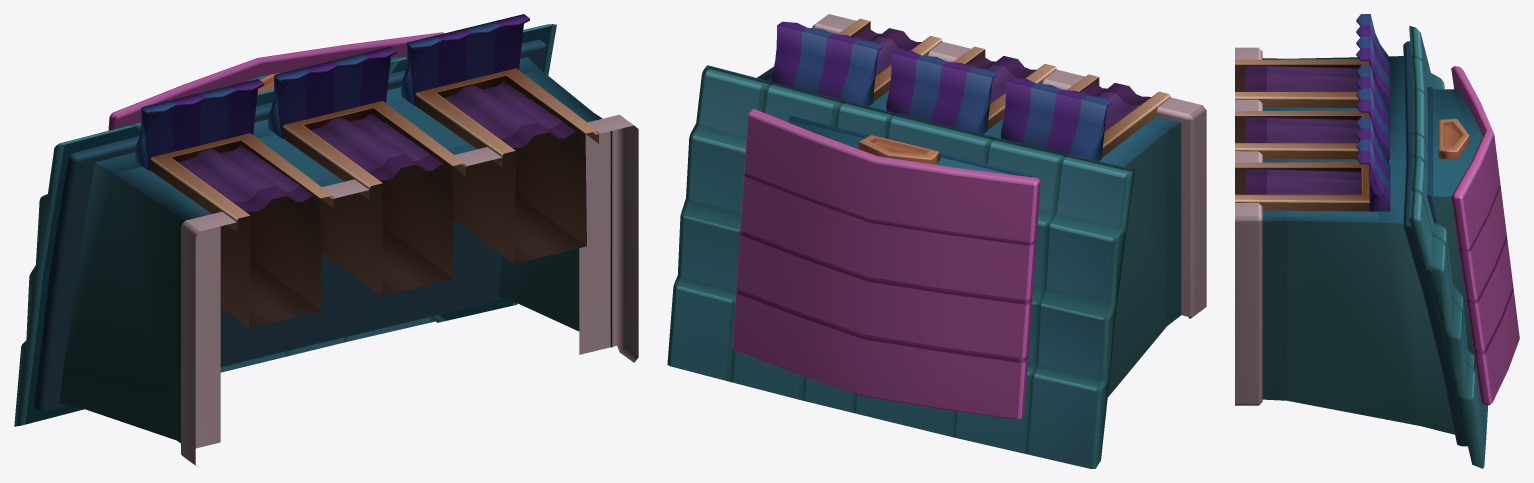
File: DesignerModel.fbx
3 views of the same model, side by side, from view 1: azimuth 30°, elevation 25°; view 2: azimuth 150°, elevation 25°; view 3: azimuth 270°, elevation 25° (orthographic). The views are drawn at different scales.
Parts seen in each view (by area): view 1: DesignerModel, Curtain; view 2: DesignerModel, Curtain; view 3: DesignerModel, Curtain.
Part boxes in pixels (<box>): DesignerModel: <box>14,14,638,466</box>; Curtain: <box>177,81,575,211</box>; DesignerModel: <box>667,14,1206,468</box>; Curtain: <box>853,28,1150,130</box>; DesignerModel: <box>1235,14,1519,468</box>; Curtain: <box>1245,66,1361,194</box>.
Bounding box in the file's own units: 599 × 411 × 373.
